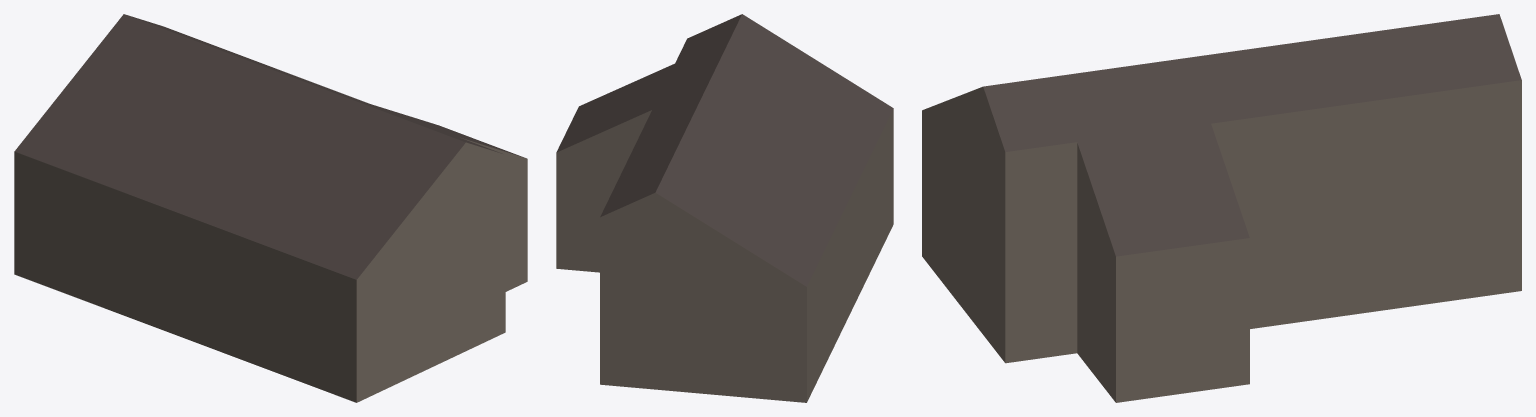
3 views of the same model, side by side, from view 1: azimuth 30°, elevation 25°; view 2: azimuth 150°, elevation 25°; view 3: azimuth 270°, elevation 25° (orthographic). The views are drawn at different scales.
Parts seen in each view (by area): view 1: HP-w1367350977; view 2: HP-w1367350977; view 3: HP-w1367350977.
Part boxes in pixels (x1,y1,x2,y2): HP-w1367350977: (14,14,527,402); HP-w1367350977: (556,14,893,402); HP-w1367350977: (922,14,1521,402).
Bounding box in the file's own units: 19.27 × 10.19 × 22.3.
